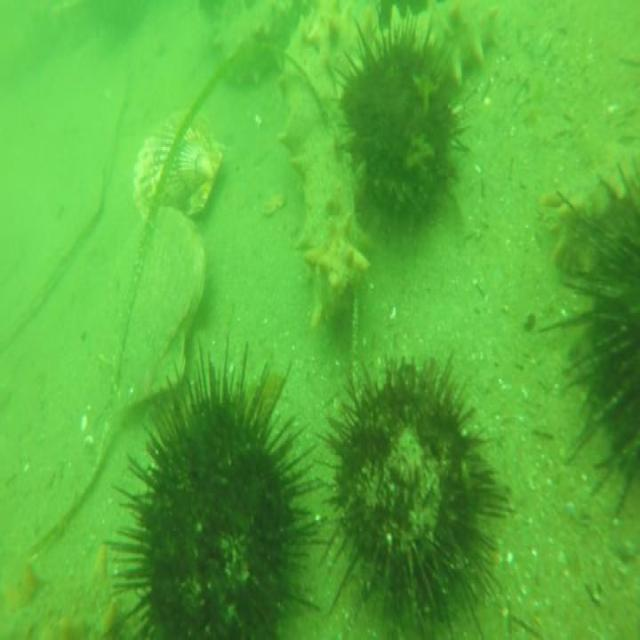echinus: (109, 317, 319, 640), (319, 332, 509, 640), (555, 136, 640, 528), (337, 16, 471, 243)
holothurian: (281, 0, 386, 303), (546, 142, 640, 277), (364, 0, 504, 82), (215, 0, 298, 90)
scallop: (91, 204, 209, 409), (134, 104, 226, 226)
